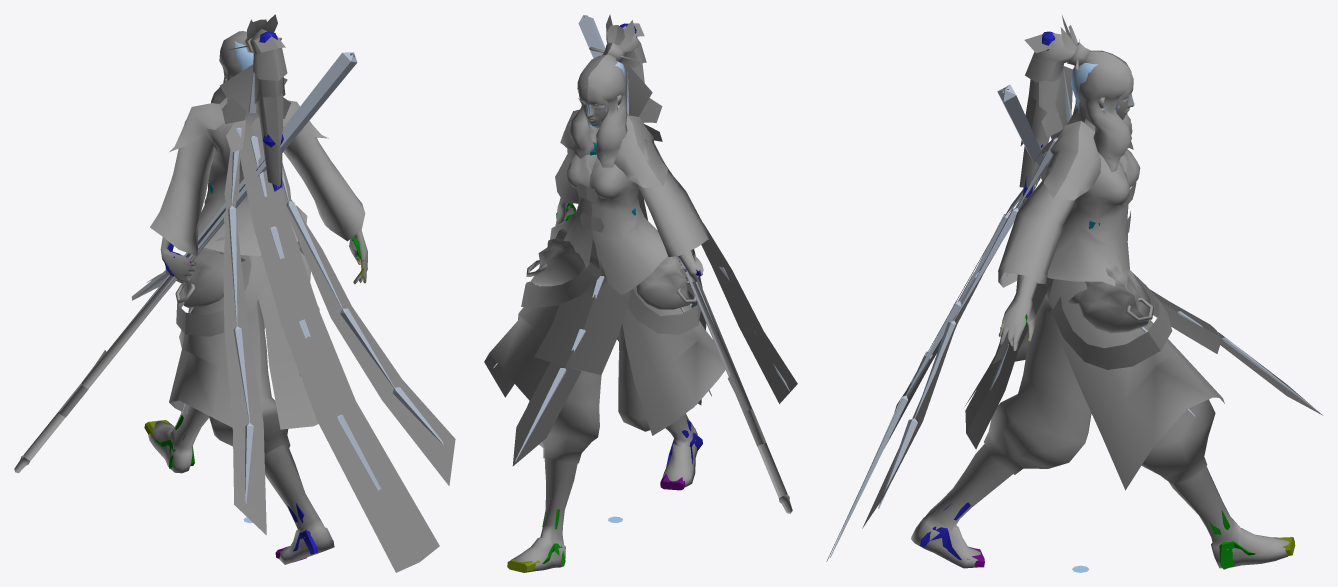
The model's file is huangrong.obj.
The picture shows the model from 3 angles, left to right: view 1: azimuth 30°, elevation 25°; view 2: azimuth 150°, elevation 25°; view 3: azimuth 270°, elevation 25°; orthographic projection. The views are drawn at different scales.
Visible parts, largest first — view 1: ????, Bone01, Bone19, Bone14, Bone20; view 2: ????, Bone01, Bone27; view 3: ????, Bone01, Bone11, Bone19.
Boxes of the visible parts, x1,y1,x2,y2 form: ????: [14, 14, 455, 572]; Bone01: [131, 52, 357, 331]; Bone19: [286, 201, 342, 308]; Bone14: [228, 206, 237, 325]; Bone20: [340, 308, 394, 387]; ????: [484, 14, 797, 571]; Bone01: [578, 15, 727, 370]; Bone27: [515, 368, 566, 461]; ????: [826, 15, 1322, 568]; Bone01: [997, 85, 1047, 180]; Bone11: [829, 395, 907, 557]; Bone19: [954, 208, 1018, 320].
Size of the model in its own units: 1.09 by 1.65 by 1.35.
